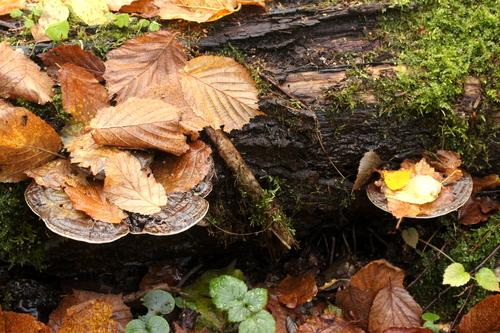Ganoderma - Fruit Body: (24, 143, 217, 245), (361, 162, 486, 221)
